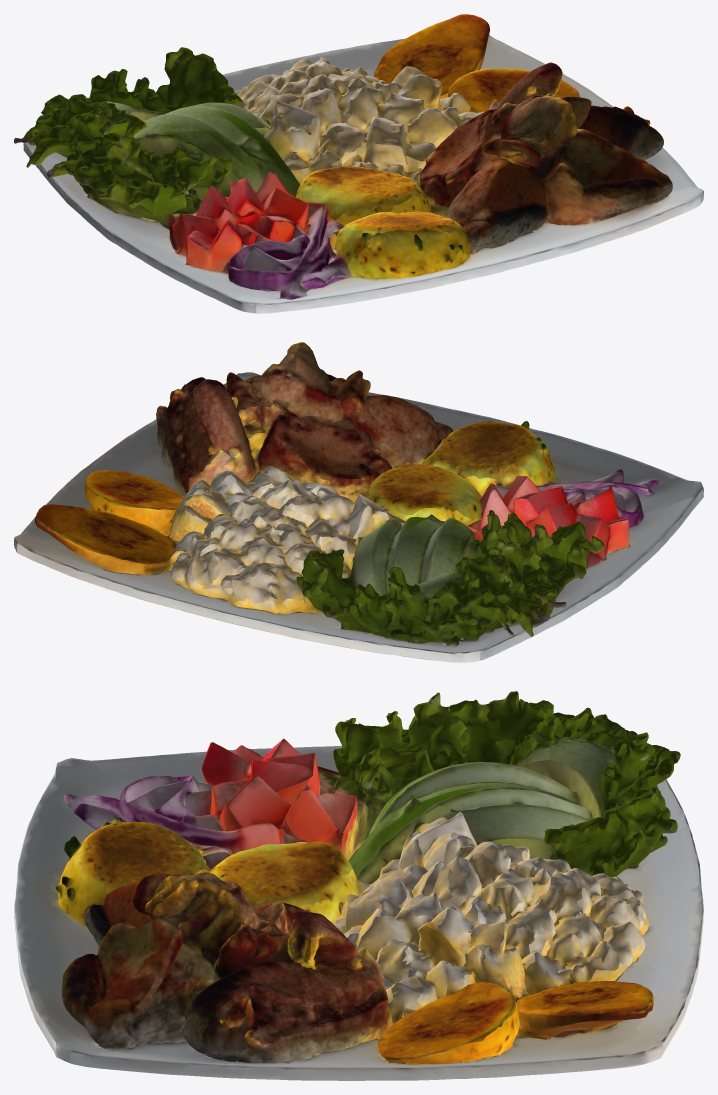
Rendered from std2.glb.
3 views of the same model, one above another, from view 1: azimuth 30°, elevation 25°; view 2: azimuth 150°, elevation 25°; view 3: azimuth 270°, elevation 25° (orthographic). The views are drawn at different scales.
Visible parts, largest first — view 1: geometry_0; view 2: geometry_0; view 3: geometry_0.
Part boxes in pixels (x1,y1,x2,y2): geometry_0: (14, 14, 703, 313); geometry_0: (14, 342, 703, 662); geometry_0: (14, 691, 703, 1080).
Bounding box in the file's own units: 0.2624 × 0.065 × 0.2348.
1 material, 1 textured.
